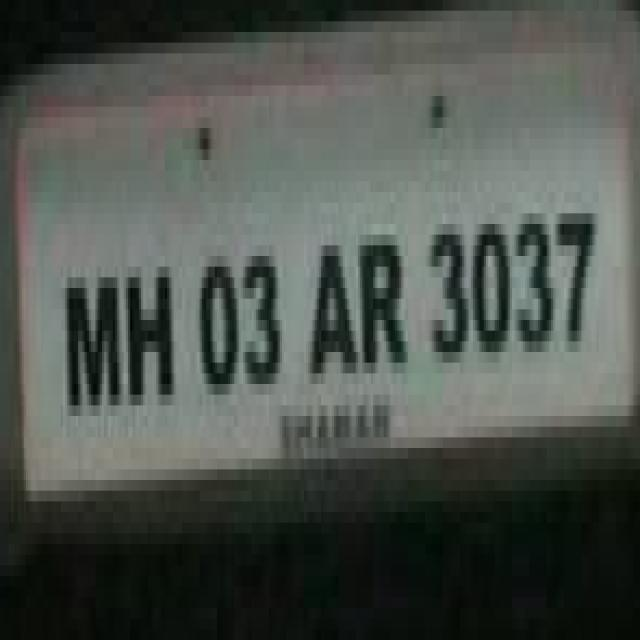license_plate: (0, 21, 605, 597)
